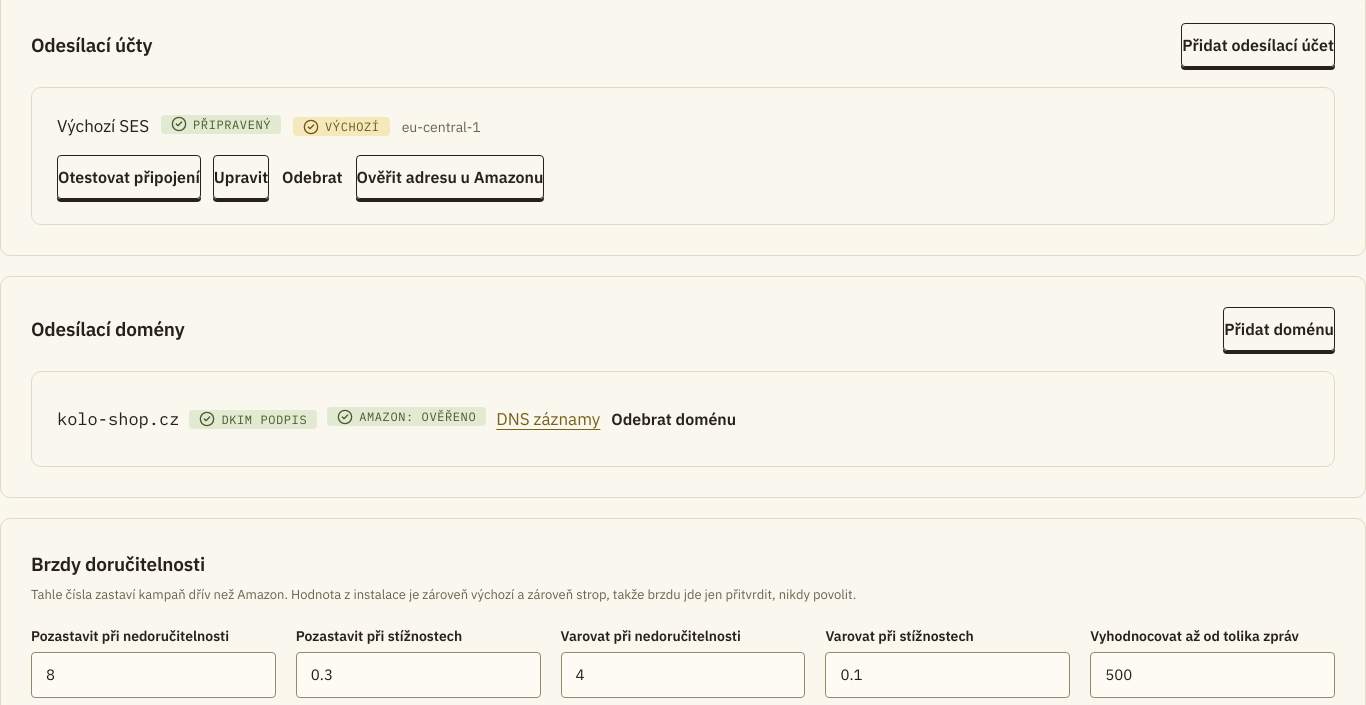
Test: odebrání odesílací domény ze seznamu › běžící kampaň se pojmenuje konkrétně, ne obecným „nejde to"
Click the button with test id "delete-domain-dom-1": (674, 419) [610, 397, 737, 441]
(page scrolled)
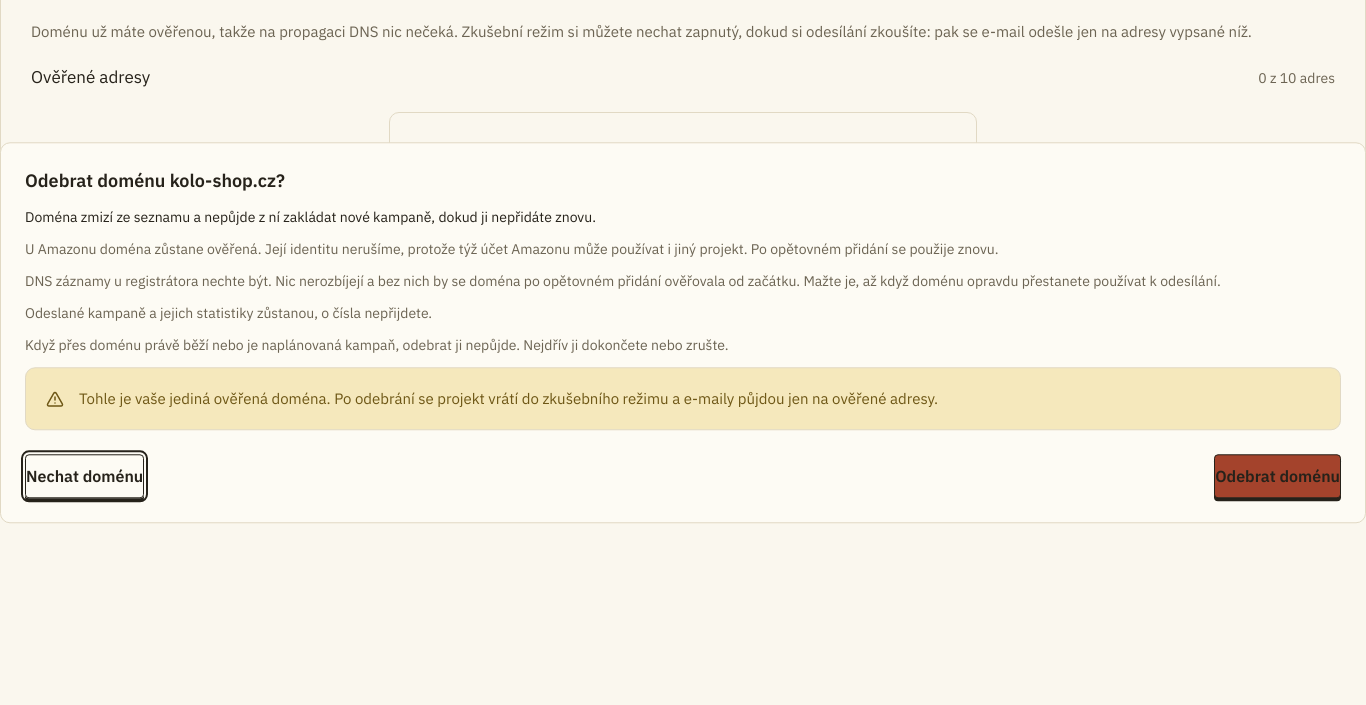
Click the button with test id "delete-domain-submit": (1278, 476) [1214, 454, 1341, 498]
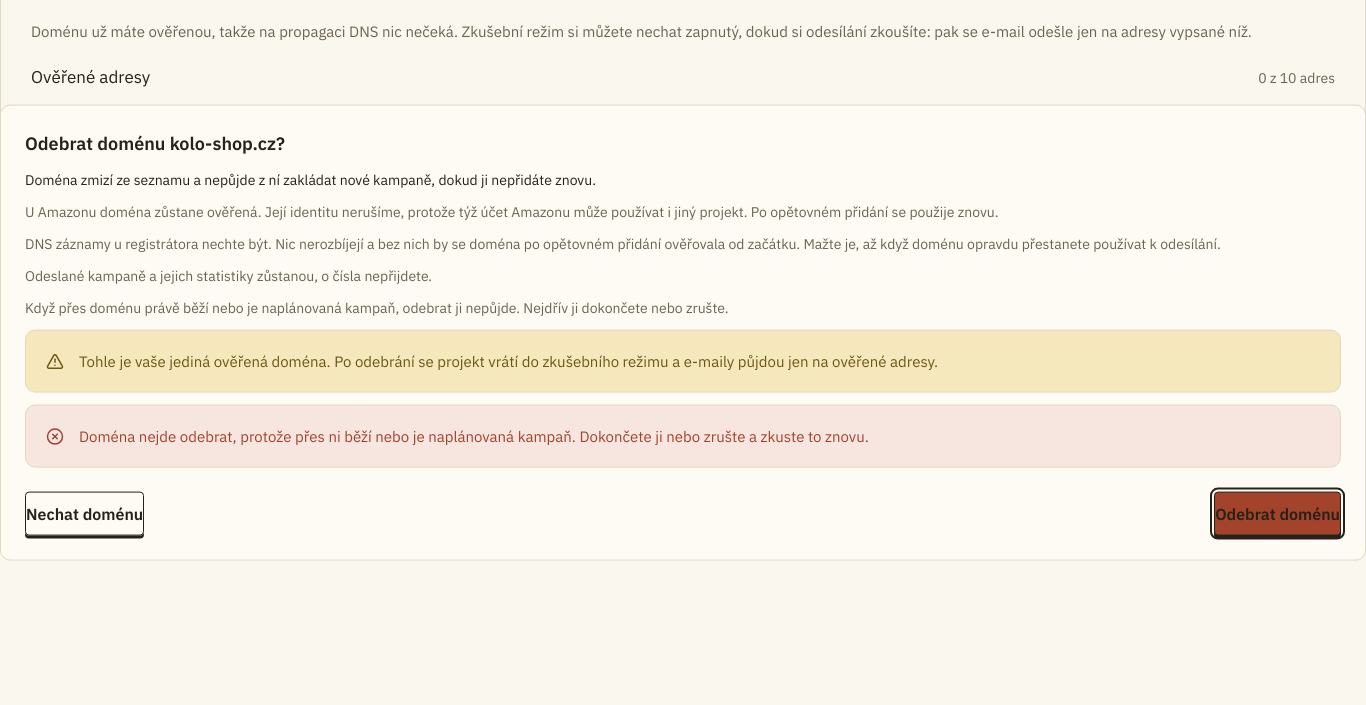
expect the message with test id "delete-domain-error" shows "běží nebo je naplánovaná kampaň": met, box [79, 427, 869, 446]
